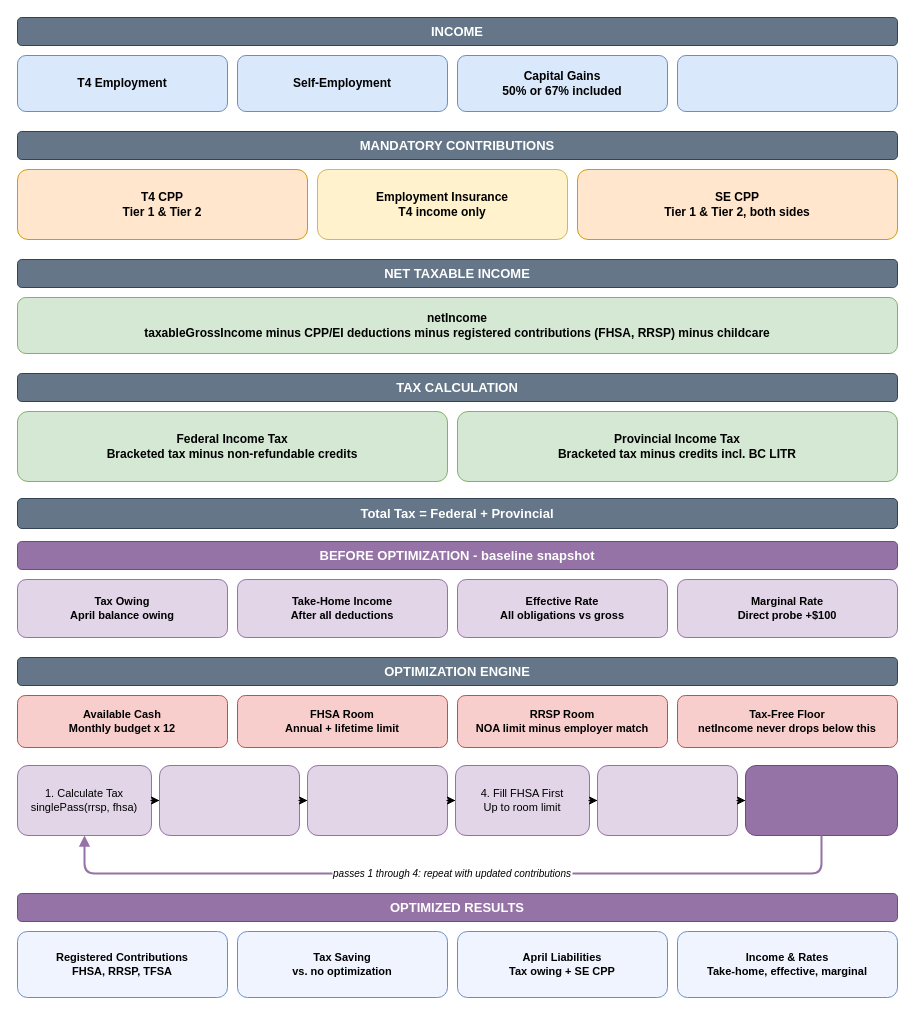
This 915x1015 diagram has some shape labels left out. Here are the shapes that lost their labels. From the top down, the box of each, then its label:
(158, 764, 300, 836): 2. Tax Owing Employer already withheld T4 portion
(306, 764, 448, 836): 3. Investable Pool Cash minus liabilities
(596, 764, 738, 836): 5. RRSP Headroom Floor constraint applied
(744, 764, 898, 836): 6. RRSP Amount Feeds back to step 1
